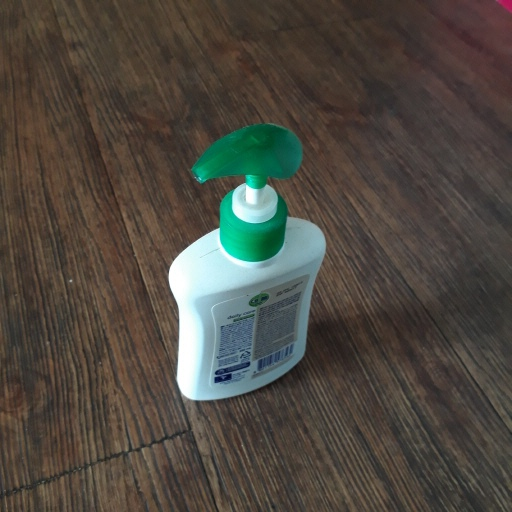Plastic_3: (162, 124, 326, 401)
